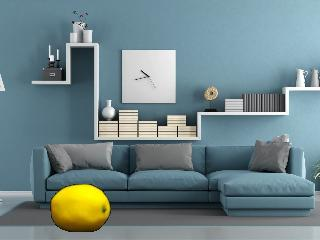lemon: (50, 185, 109, 232)
